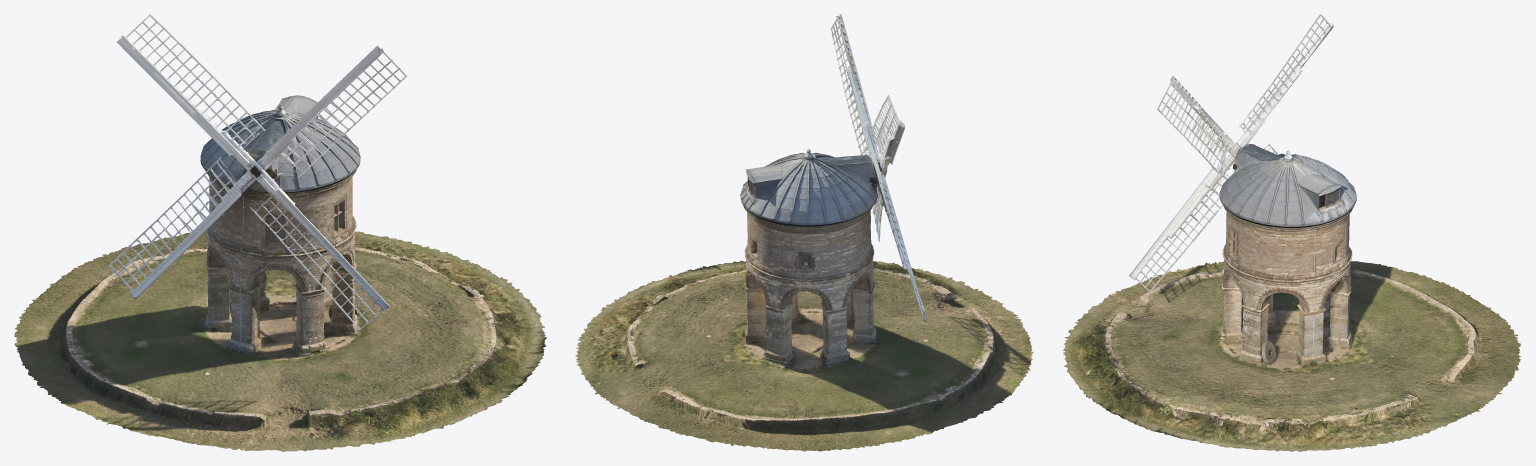
File: windmill.glb
3 renders of one model, left to right at view 1: azimuth 30°, elevation 25°; view 2: azimuth 150°, elevation 25°; view 3: azimuth 270°, elevation 25°, orthographic. The views are drawn at different scales.
Visible parts, largest first — view 1: Object_5, Object_6, Object_10, Object_8, Object_13, Object_4; view 2: Object_8, Object_5, Object_4, Object_6, Object_10, Object_13; view 3: Object_8, Object_6, Object_4, Object_10, Object_5, Object_13.
Boxes of the visible parts, x1,y1,x2,y2 form: Object_5: (33,14,508,446); Object_6: (19,21,546,451); Object_10: (112,14,458,439); Object_8: (14,29,544,376); Object_13: (108,29,400,332); Object_4: (102,230,491,306); Object_8: (596,44,978,444); Object_5: (740,19,1033,414); Object_4: (575,305,752,445); Object_6: (662,18,1022,451); Object_10: (741,15,937,358); Object_13: (740,14,926,360); Object_8: (1132,27,1475,451); Object_6: (1063,18,1514,441); Object_4: (1265,333,1520,450); Object_10: (1063,14,1356,379); Object_5: (1078,15,1353,402); Object_13: (1131,22,1352,365).
Size of the model in its own units: 25.71 by 18.2 by 25.66.
6 materials, 6 textured.
